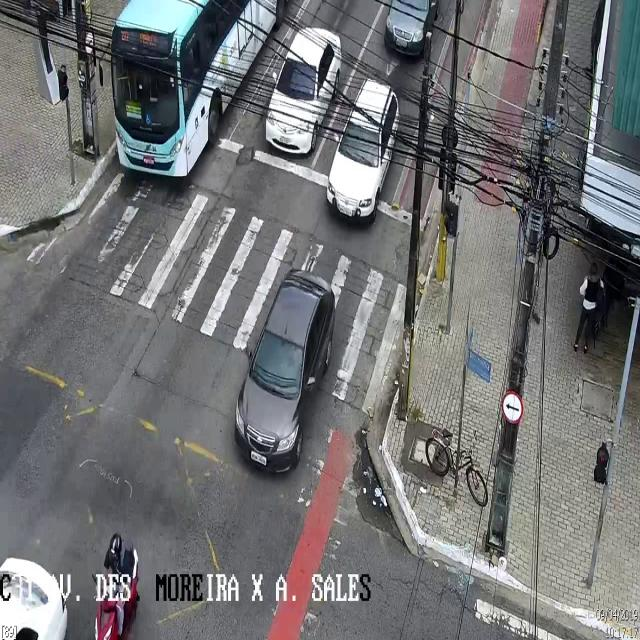Bus: (98, 1, 286, 176)
Car: (234, 265, 335, 475), (326, 74, 400, 226), (265, 25, 343, 155), (0, 546, 71, 640), (383, 1, 441, 56)
Motorcycle: (93, 532, 135, 636)
